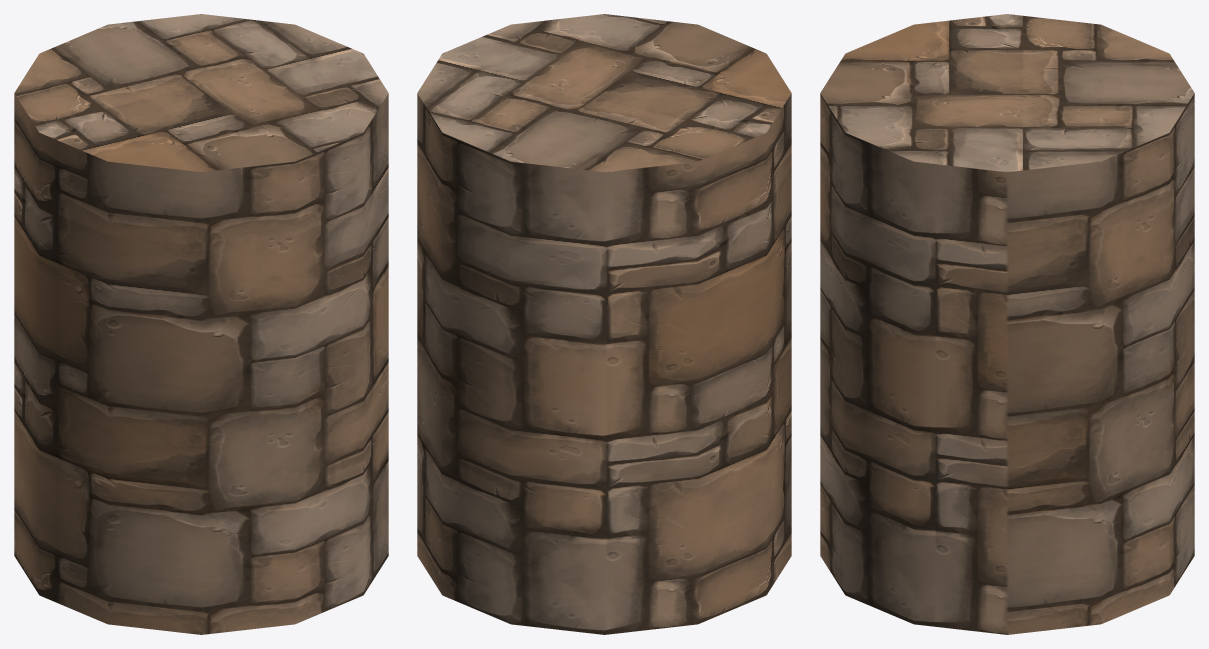
The model's file is PIL0110005.FBX.
The picture shows the model from 3 angles, left to right: view 1: azimuth 30°, elevation 25°; view 2: azimuth 150°, elevation 25°; view 3: azimuth 270°, elevation 25°; orthographic projection.
Parts seen in each view (by area): view 1: smPIL0110005; view 2: smPIL0110005; view 3: smPIL0110005.
Boxes of the visible parts, <box> form: smPIL0110005: <box>14,14,388,634</box>; smPIL0110005: <box>417,14,791,634</box>; smPIL0110005: <box>820,14,1194,634</box>.
Bounding box in the file's own units: 0.6275 × 0.8557 × 0.6275.
Materials: 1 (1 with a texture image).
